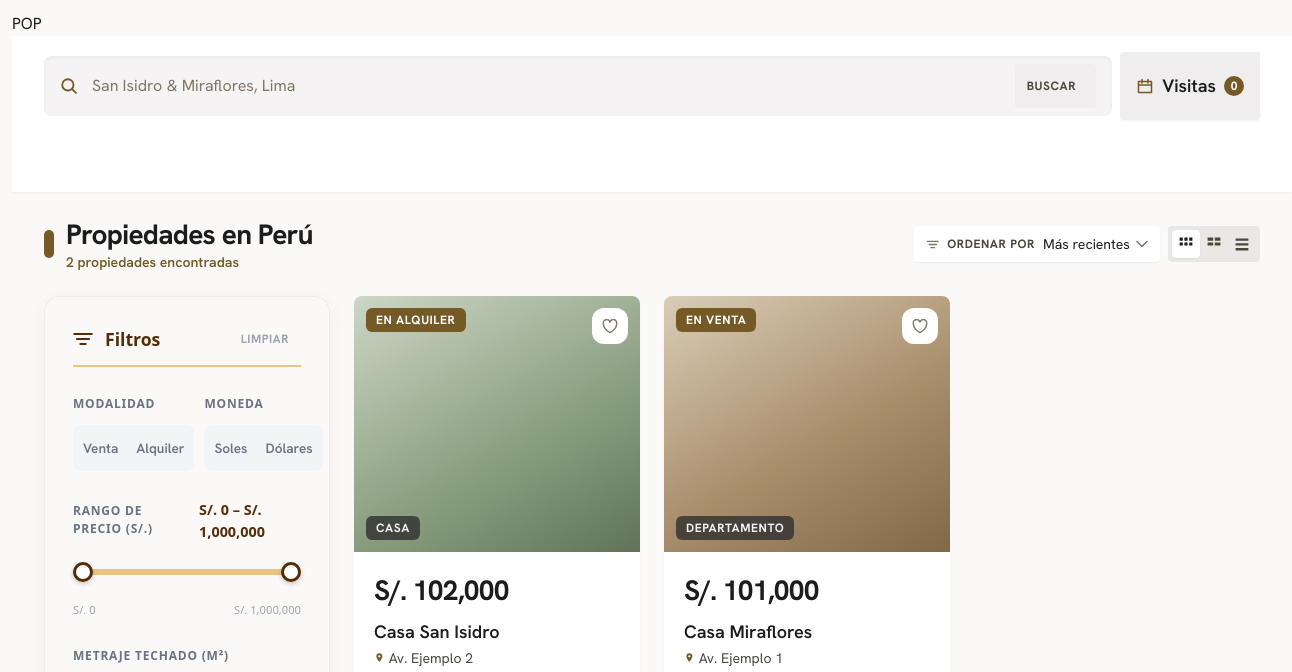
Test case: PropertyList (integración del catálogo) › Búsqueda con debounce › no resucita el término borrado cuando el debounce está pendiente
The image size is (1292, 672).
Expected: the text "2 propiedades encontradas" is shown, [66,253,239,271]
Type "casa" into the search field named "Buscar propiedades" at (546, 86), box [90,73,1003,99]
Wait 300 ms
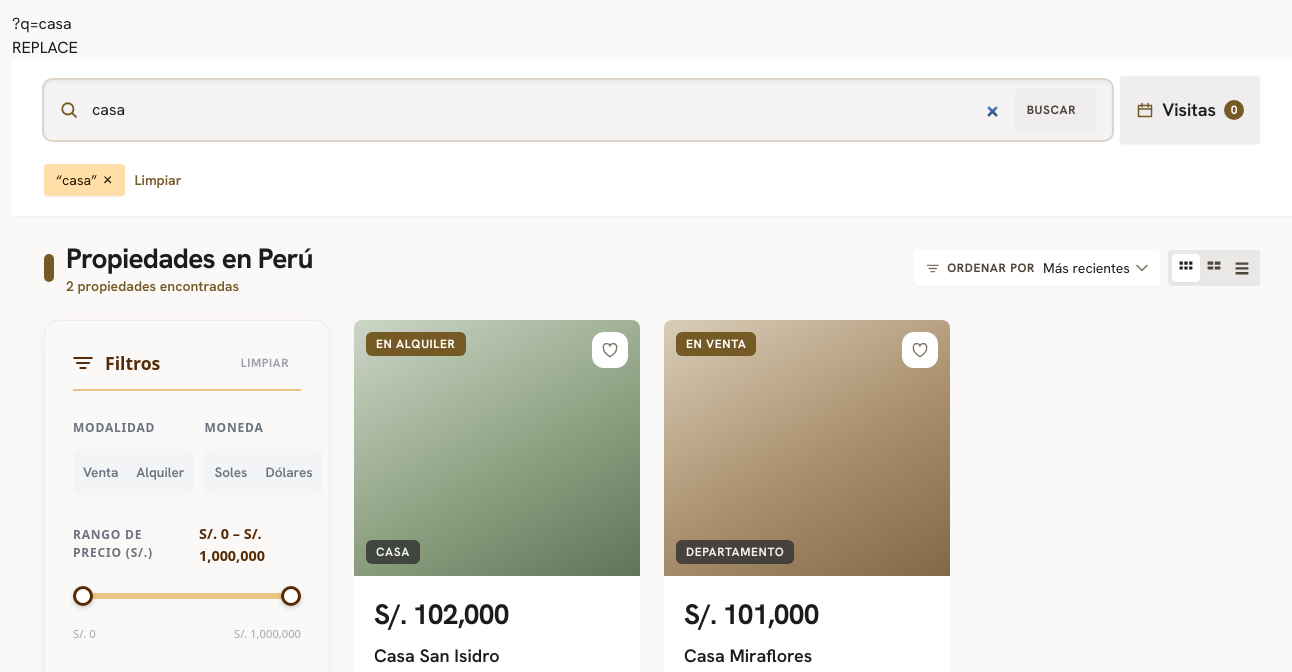
Expected: the text with test id "search" reads "?q=casa", [12,13,72,34]
Type "x" into the search field named "Buscar propiedades" at (546, 110), box [90,97,1003,123]
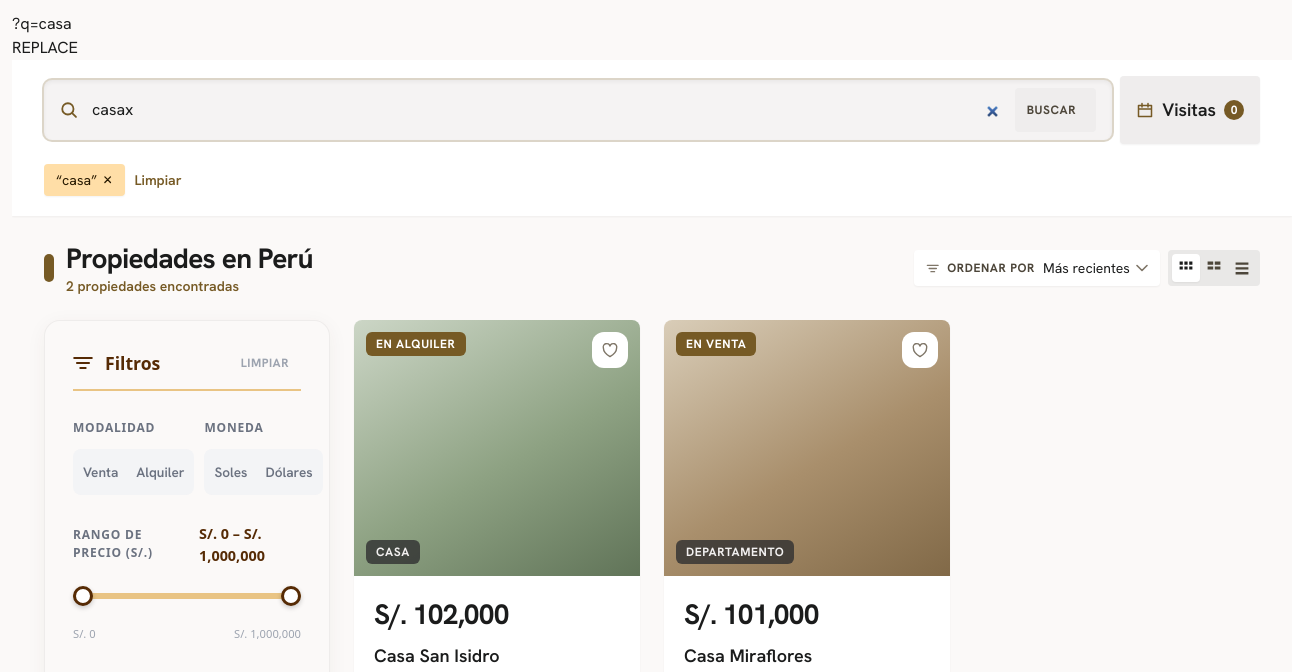
Click the button "Limpiar" next to "“casa”" at (158, 180), box [130,170,186,190]
Wait 1000 ms
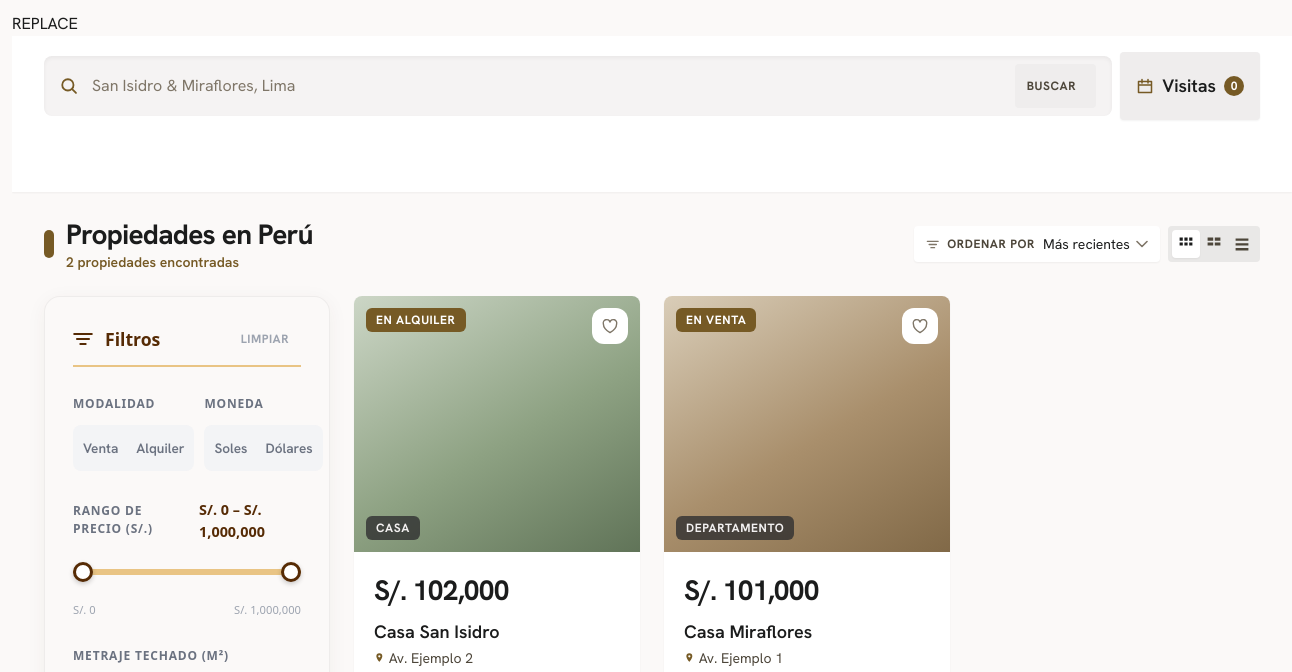
Expected: the text "2 propiedades encontradas" is shown, [66,253,239,271]
Expected: the search field named "Buscar propiedades" is empty, [90,73,1003,99]
